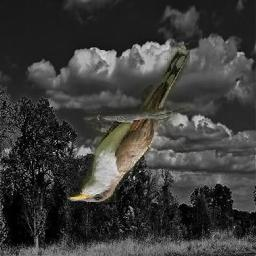Cuckoo: (68, 44, 191, 203)
